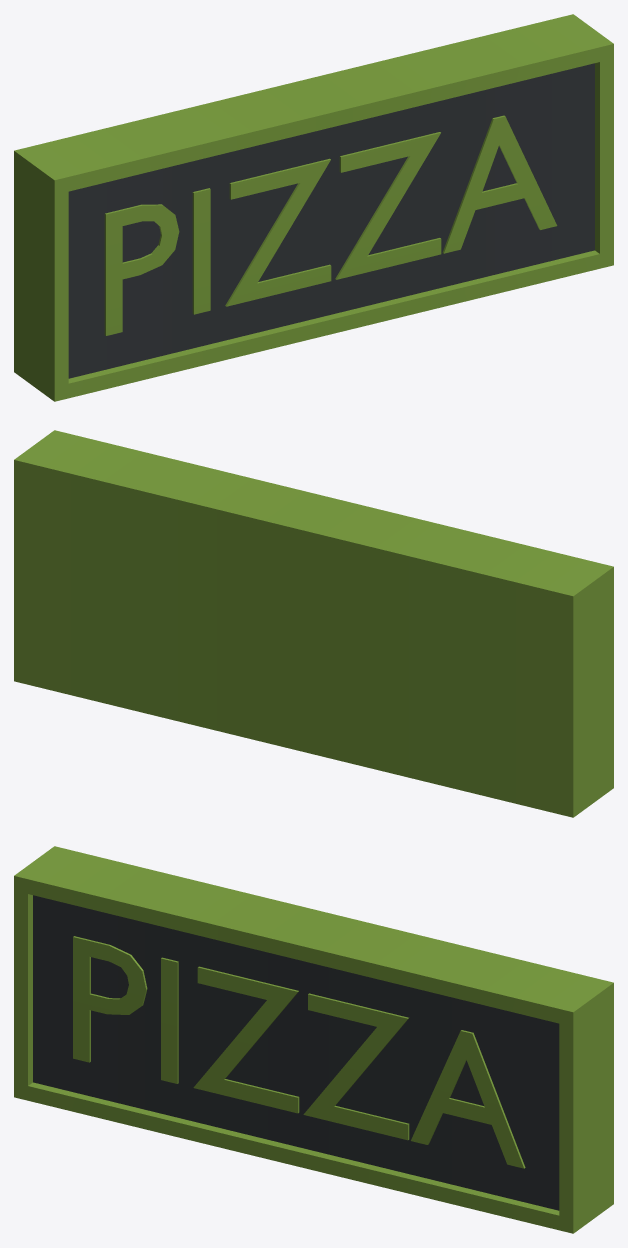
File: Banner_17.fbx
3 views of the same model, one above another, from view 1: azimuth 30°, elevation 25°; view 2: azimuth 150°, elevation 25°; view 3: azimuth 330°, elevation 25° (orthographic).
Visible parts, largest first — view 1: Banner_17; view 2: Banner_17; view 3: Banner_17.
Part boxes in pixels (x1=…): Banner_17: x1=14, y1=14, x2=613, y2=401; Banner_17: x1=14, y1=430, x2=613, y2=817; Banner_17: x1=14, y1=846, x2=613, y2=1233.
Size of the model in its own units: 2.23 by 0.8434 by 0.2801.
